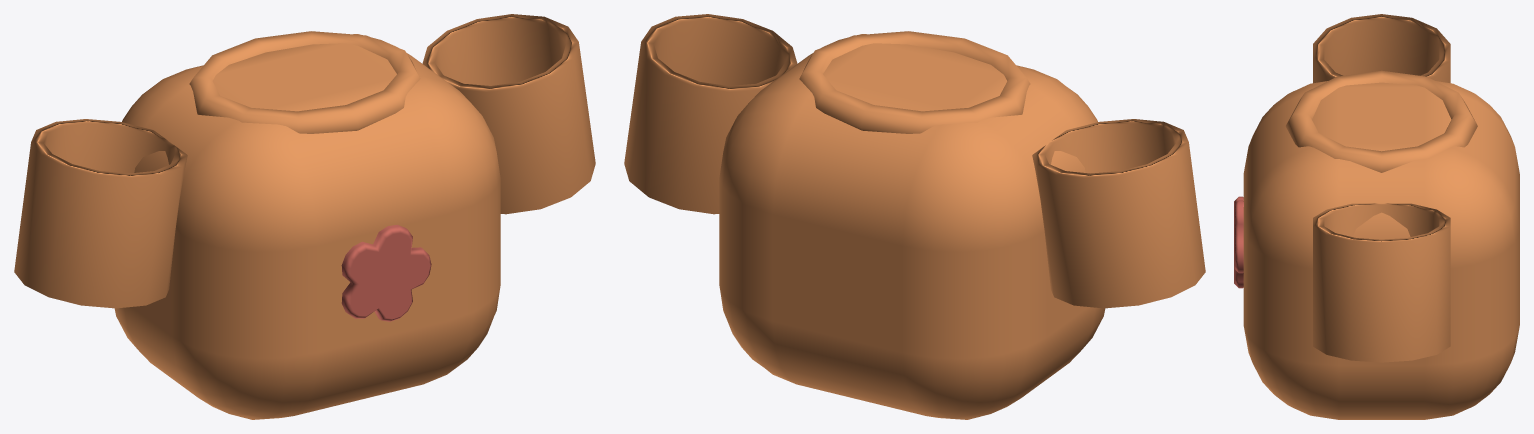
File: paradise_planning_tee.glb
3 views of the same model, side by side, from view 1: azimuth 30°, elevation 25°; view 2: azimuth 150°, elevation 25°; view 3: azimuth 270°, elevation 25° (orthographic). The views are drawn at different scales.
Parts seen in each view (by area): view 1: paradise_planning_tee_Body, paradise_planning_tee_ArmL, paradise_planning_tee_ArmR; view 2: paradise_planning_tee_Body, paradise_planning_tee_ArmL, paradise_planning_tee_ArmR; view 3: paradise_planning_tee_Body, paradise_planning_tee_ArmR, paradise_planning_tee_ArmL.
Part boxes in pixels (bbox=[...]): paradise_planning_tee_Body: bbox=[114, 31, 500, 419]; paradise_planning_tee_ArmL: bbox=[14, 119, 187, 308]; paradise_planning_tee_ArmR: bbox=[422, 14, 595, 214]; paradise_planning_tee_Body: bbox=[719, 31, 1105, 419]; paradise_planning_tee_ArmL: bbox=[1032, 119, 1205, 308]; paradise_planning_tee_ArmR: bbox=[624, 14, 797, 214]; paradise_planning_tee_Body: bbox=[1234, 70, 1519, 419]; paradise_planning_tee_ArmR: bbox=[1313, 203, 1450, 362]; paradise_planning_tee_ArmL: bbox=[1313, 14, 1450, 83].
Bounding box in the file's own units: 0.6053 × 0.3119 × 0.3.
